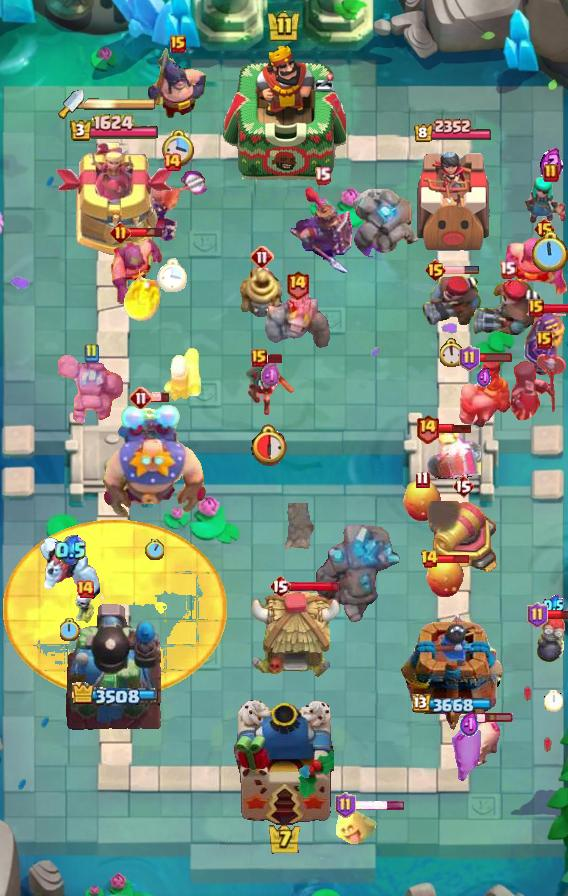bandit: (246, 360, 296, 418)
bar: (289, 580, 340, 593), (353, 800, 406, 811), (477, 712, 514, 724), (436, 553, 471, 565), (129, 226, 164, 238), (437, 423, 473, 434), (477, 352, 513, 363), (444, 265, 480, 275), (542, 302, 568, 315), (546, 608, 568, 621), (264, 353, 284, 364), (151, 392, 170, 403)
bar-level: (415, 413, 440, 444), (285, 269, 310, 300), (129, 386, 153, 410), (250, 245, 274, 269), (424, 258, 447, 282), (533, 217, 556, 241), (335, 792, 356, 818), (527, 602, 548, 628), (459, 345, 480, 371), (269, 574, 291, 598), (452, 474, 474, 498), (110, 222, 131, 243), (75, 579, 95, 599), (162, 152, 182, 172), (420, 549, 439, 569), (499, 260, 516, 279), (314, 166, 331, 185), (83, 343, 99, 363), (543, 163, 559, 183), (251, 349, 267, 367), (536, 331, 552, 349), (528, 299, 544, 317), (170, 35, 186, 53), (415, 470, 430, 489)
bomber: (536, 613, 568, 663)
cannoneer-tower: (64, 601, 164, 731)
clock: (251, 423, 291, 466), (530, 231, 568, 275), (162, 130, 195, 168), (157, 258, 188, 292), (440, 338, 465, 367), (60, 618, 80, 641), (544, 690, 563, 712), (145, 539, 164, 560)
dagger-duchess-tower: (55, 142, 174, 256)
dagger-duchess-tower-bar: (84, 97, 156, 111)
dirt: (279, 503, 317, 549)
elixir: (55, 535, 86, 566), (540, 145, 563, 180), (261, 362, 282, 389), (460, 711, 479, 739), (543, 595, 564, 616), (477, 367, 491, 389)
executioner: (147, 43, 209, 121), (504, 238, 568, 298), (110, 236, 164, 306)
firecracker: (161, 345, 203, 403)
golemite: (350, 189, 420, 257), (58, 352, 124, 424), (264, 295, 330, 355)
heal-spirit: (335, 803, 379, 847)
hog: (460, 718, 502, 770), (452, 727, 486, 785)
hunter: (470, 278, 544, 340), (420, 273, 484, 327)
king-tower: (223, 44, 346, 181), (234, 700, 334, 826)
knight-evolution: (524, 306, 566, 376)
night-witch: (508, 351, 568, 425)
phoenix-egg: (425, 555, 465, 599), (402, 479, 442, 523)
queen-tower: (401, 612, 505, 731), (410, 145, 496, 256)
ram-rider: (454, 354, 514, 428)
rascal-girl: (522, 176, 568, 226)
royal-ghost: (411, 426, 481, 484)
skeleton: (73, 592, 97, 624)
tower-bar: (69, 114, 160, 143), (70, 682, 158, 707), (413, 119, 493, 144), (412, 694, 494, 715)
valkyrie-evolution: (138, 169, 207, 243)
zappy: (239, 267, 285, 319)
